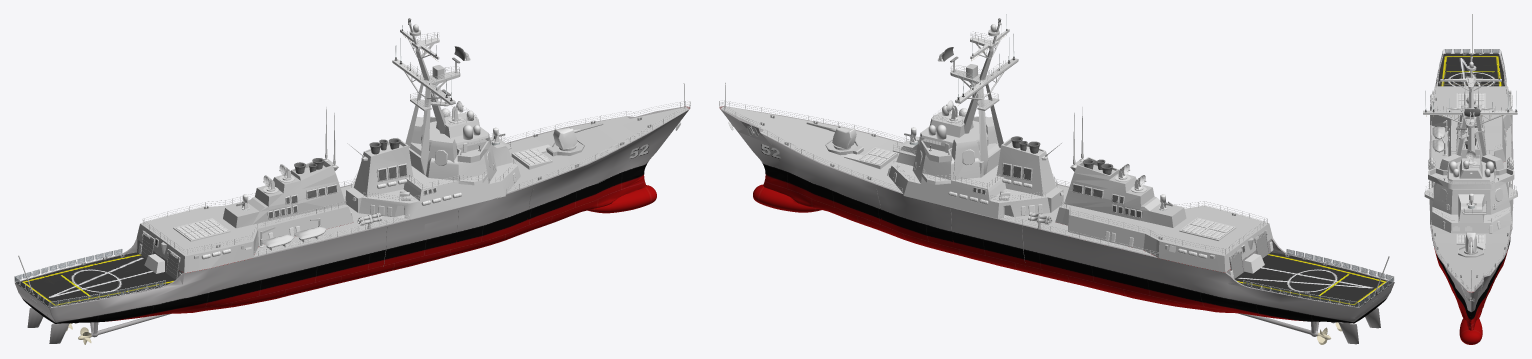
The model's file is Burke-Class-DDG-52-USS-Barry-v02_optimized.glb.
3 views of the same model, side by side, from view 1: azimuth 30°, elevation 25°; view 2: azimuth 150°, elevation 25°; view 3: azimuth 270°, elevation 25° (orthographic). The views are drawn at different scales.
Visible parts, largest first — view 1: Port Propeller Shaft01.005, Box196, 5 in mount, Port Propeller Shaft01.013, Port Propeller Shaft01.003, Port Propeller Shaft01.012, Box04, ChamferBox10; view 2: Port Propeller Shaft01.005, Box196, 5 in mount, Port Propeller Shaft01.003, Port Propeller Shaft01.012, Port Propeller Shaft01.013, Box04, ChamferBox10; view 3: Box196, 5 in mount, Port Propeller Shaft01.005, Port Propeller Shaft01.013, Port Propeller Shaft01.012, Cylinder161, Port Propeller Shaft01.010, Box04, Port Propeller Shaft01.009, Port Propeller Shaft01.002.
Part boxes in pixels (x1,y1,x2,y2): Port Propeller Shaft01.005: [14, 106, 690, 323]; Box196: [18, 24, 690, 294]; 5 in mount: [136, 107, 688, 273]; Port Propeller Shaft01.013: [14, 191, 410, 307]; Port Propeller Shaft01.003: [21, 167, 387, 343]; Port Propeller Shaft01.012: [15, 249, 165, 306]; Box04: [27, 18, 651, 298]; ChamferBox10: [155, 165, 436, 245]; Port Propeller Shaft01.005: [719, 106, 1394, 323]; Box196: [719, 24, 1389, 295]; 5 in mount: [721, 106, 1272, 272]; Port Propeller Shaft01.003: [1022, 167, 1388, 344]; Port Propeller Shaft01.012: [1243, 249, 1393, 306]; Port Propeller Shaft01.013: [999, 191, 1394, 307]; Box04: [760, 18, 1379, 298]; ChamferBox10: [973, 164, 1244, 252]; Box196: [1423, 14, 1517, 301]; 5 in mount: [1430, 86, 1512, 291]; Port Propeller Shaft01.005: [1429, 53, 1513, 344]; Port Propeller Shaft01.013: [1432, 49, 1506, 155]; Port Propeller Shaft01.012: [1437, 49, 1506, 81]; Cylinder161: [1425, 75, 1516, 208]; Port Propeller Shaft01.010: [1439, 188, 1503, 270]; Box04: [1434, 52, 1508, 277]; Port Propeller Shaft01.009: [1466, 96, 1475, 159]; Port Propeller Shaft01.002: [1444, 178, 1498, 183].
Bounding box in the file's own units: 157 × 54.26 × 23.55.
Materials: 21 (21 with a texture image).
